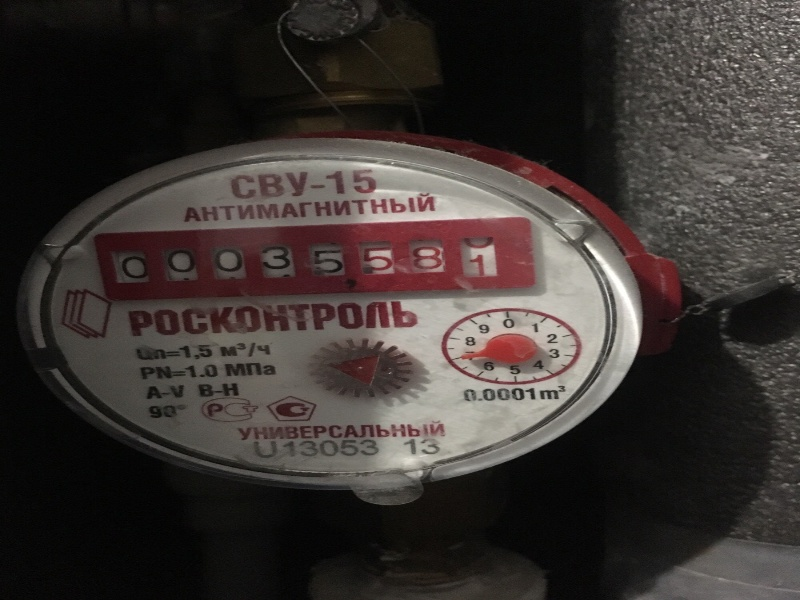dial: (92, 231, 515, 292)
